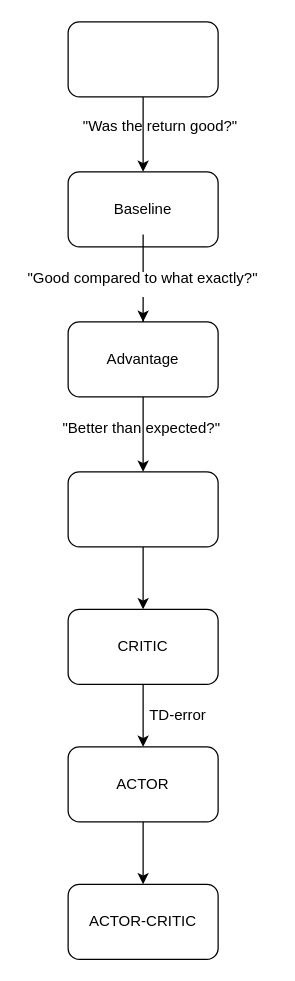
Image size: 295x981. Some labels were removed from this diagram. Each missing label, with the centre of its shape:
"Learn the Baseline" belongs at (x=142, y=509).
"REINFORCE" belongs at (x=142, y=59).
